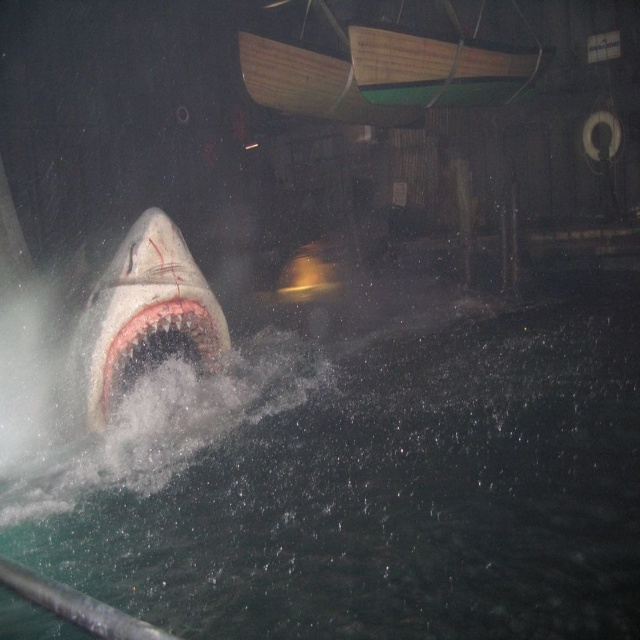Shark: (57, 189, 240, 435)
